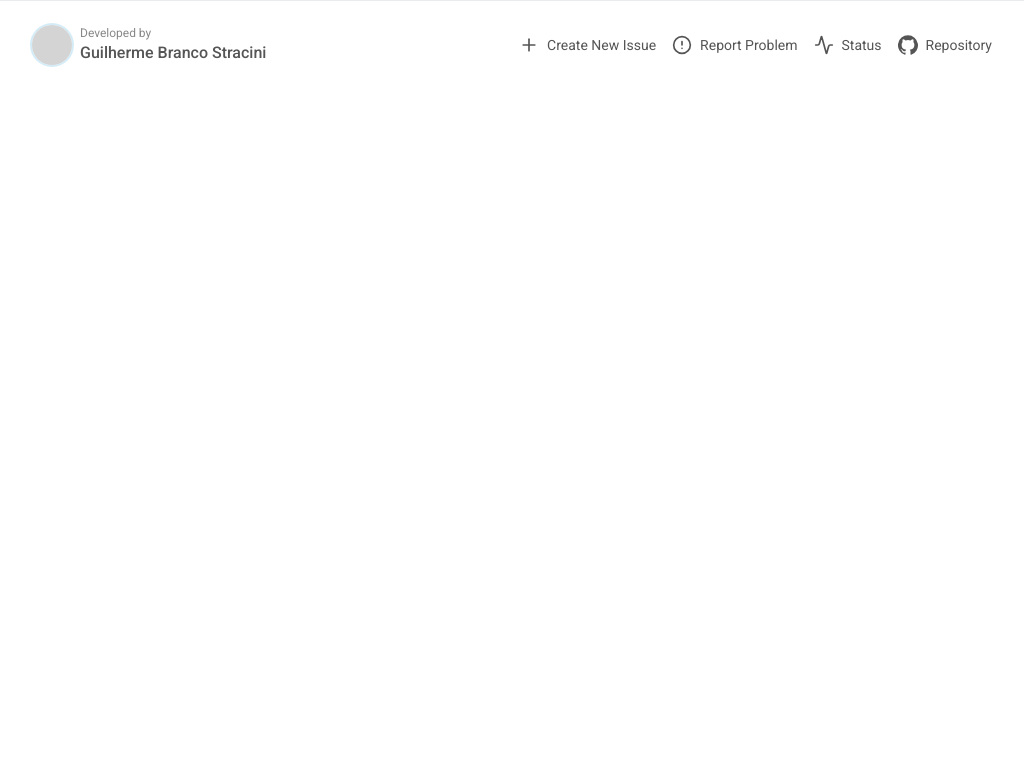
Footer › opens the new issue modal when "Create New Issue" is clicked
Check: the text "How to Create a New Issue" is not shown
Click the button "Create New Issue" at coordinates (588, 45), box [519,35,656,55]
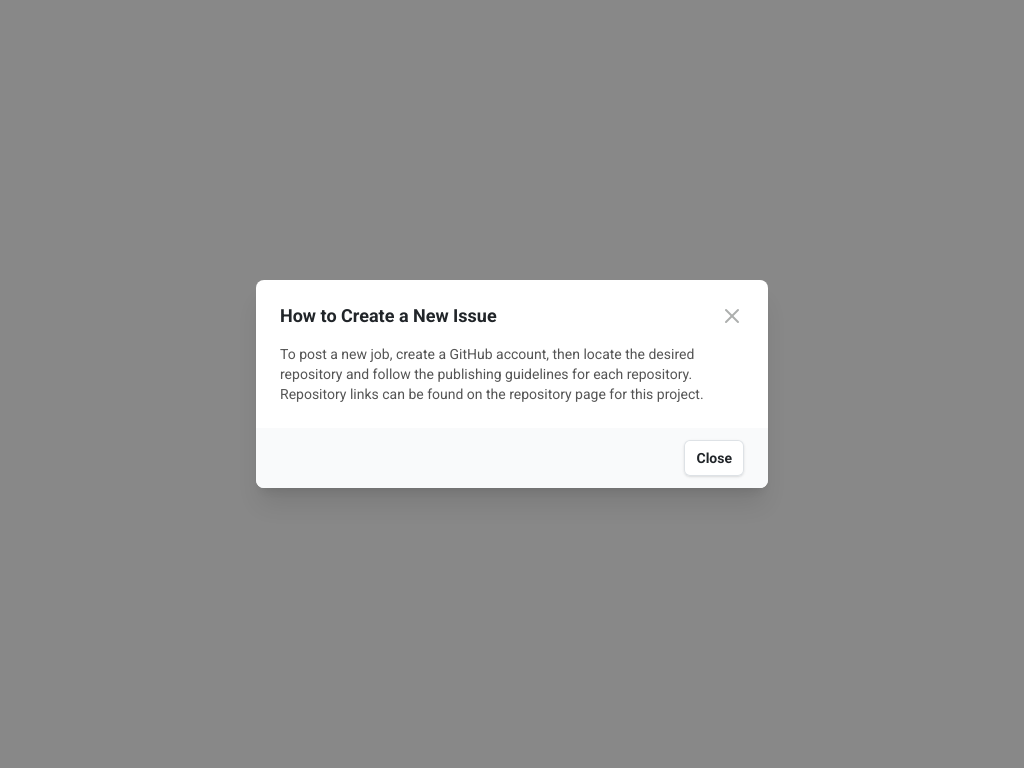
Check: the heading "How to Create a New Issue" is shown, box [280,304,497,328]
